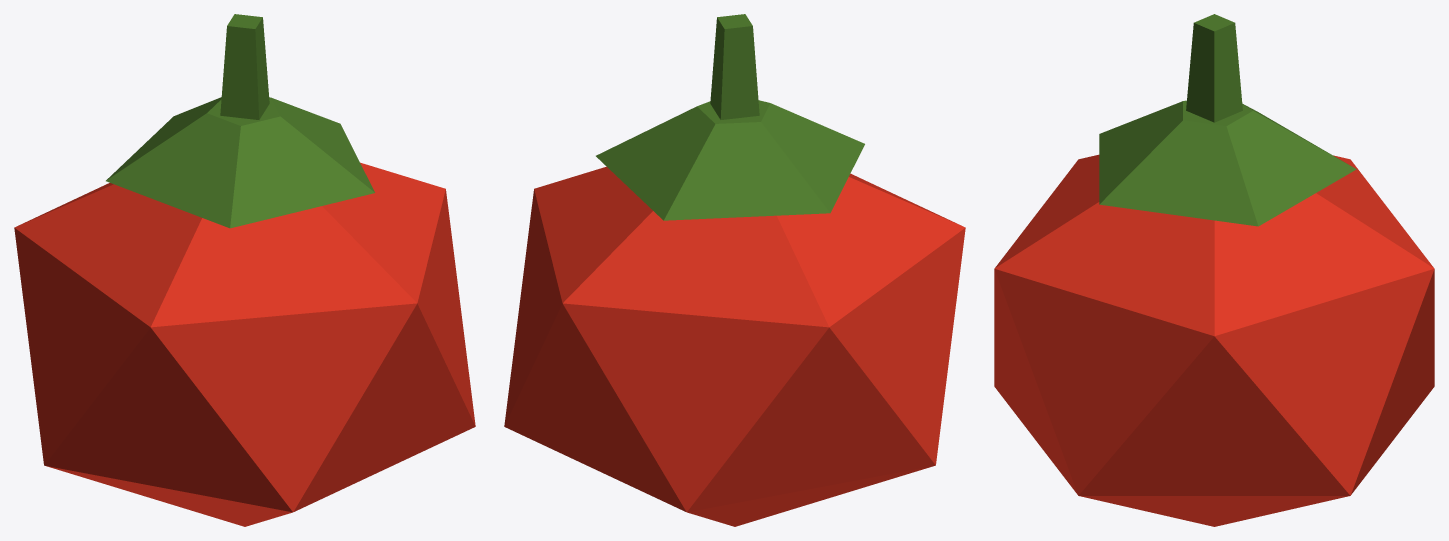
File: Tomato01.fbx
3 views of the same model, side by side, from view 1: azimuth 30°, elevation 25°; view 2: azimuth 150°, elevation 25°; view 3: azimuth 270°, elevation 25° (orthographic).
Visible parts, largest first — view 1: Tomato01; view 2: Tomato01; view 3: Tomato01.
Part boxes in pixels (x1,y1,x2,y2): Tomato01: (14, 14, 475, 526); Tomato01: (504, 14, 965, 526); Tomato01: (994, 14, 1434, 526).
Size of the model in its own units: 0.0805 by 0.0967 by 0.0766.
